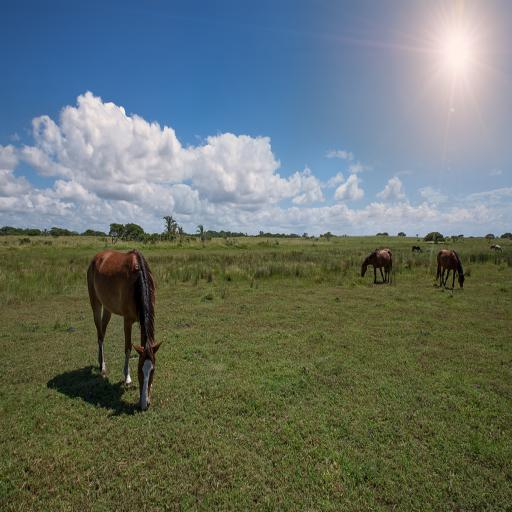horse: (86, 248, 164, 412), (434, 250, 466, 289), (362, 249, 394, 283)
